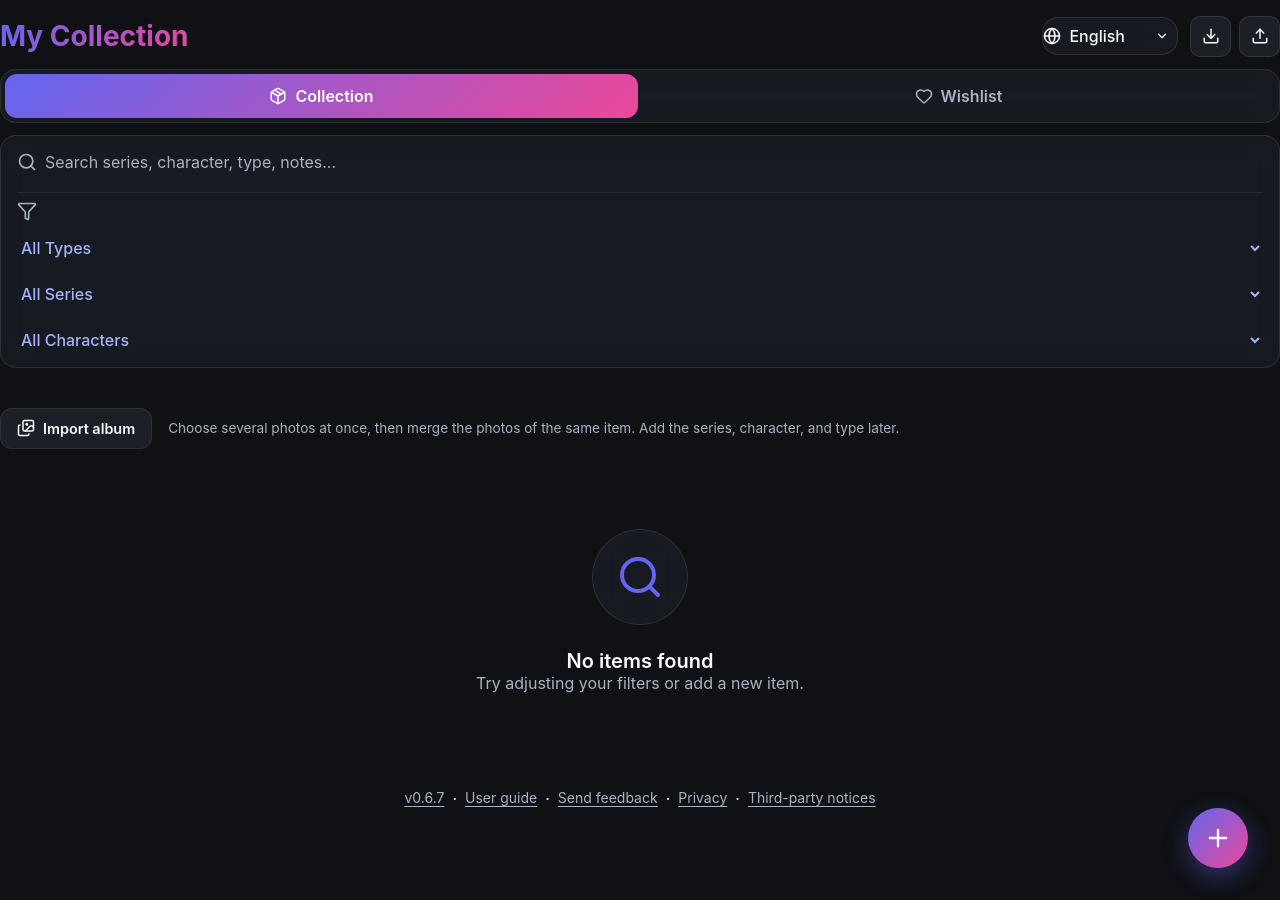
Home smoke flows › on an iPhone › saves the backup through the share sheet, opened by a tap once the file is ready
Click the button named "Export Backup" at x=1211, y=36, box [1190,16,1231,57]
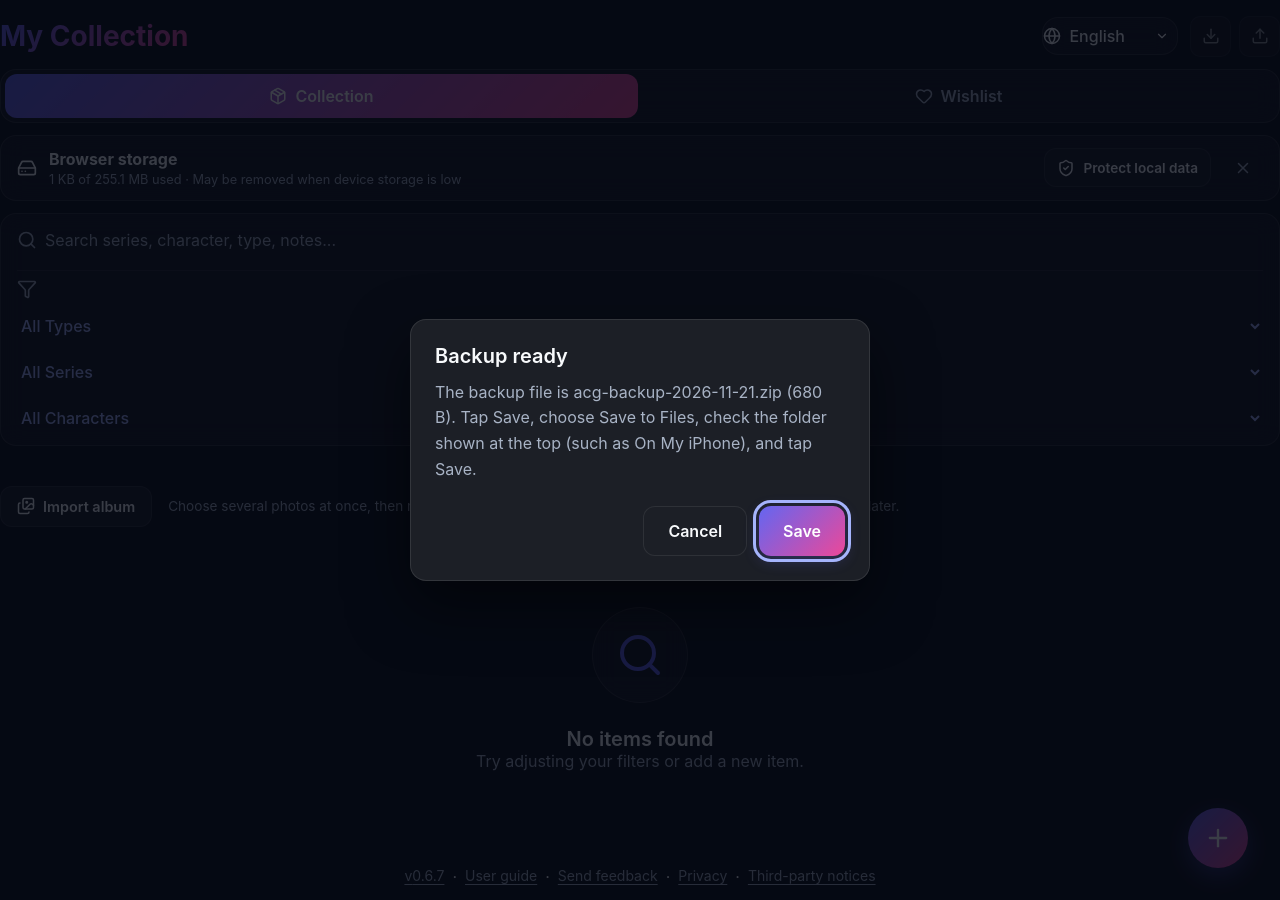
Expected: the dialog "Backup ready" shows "Save to Files", [435,382,827,479]
Click the button "Save" at x=802, y=531, box [759,506,845,556]
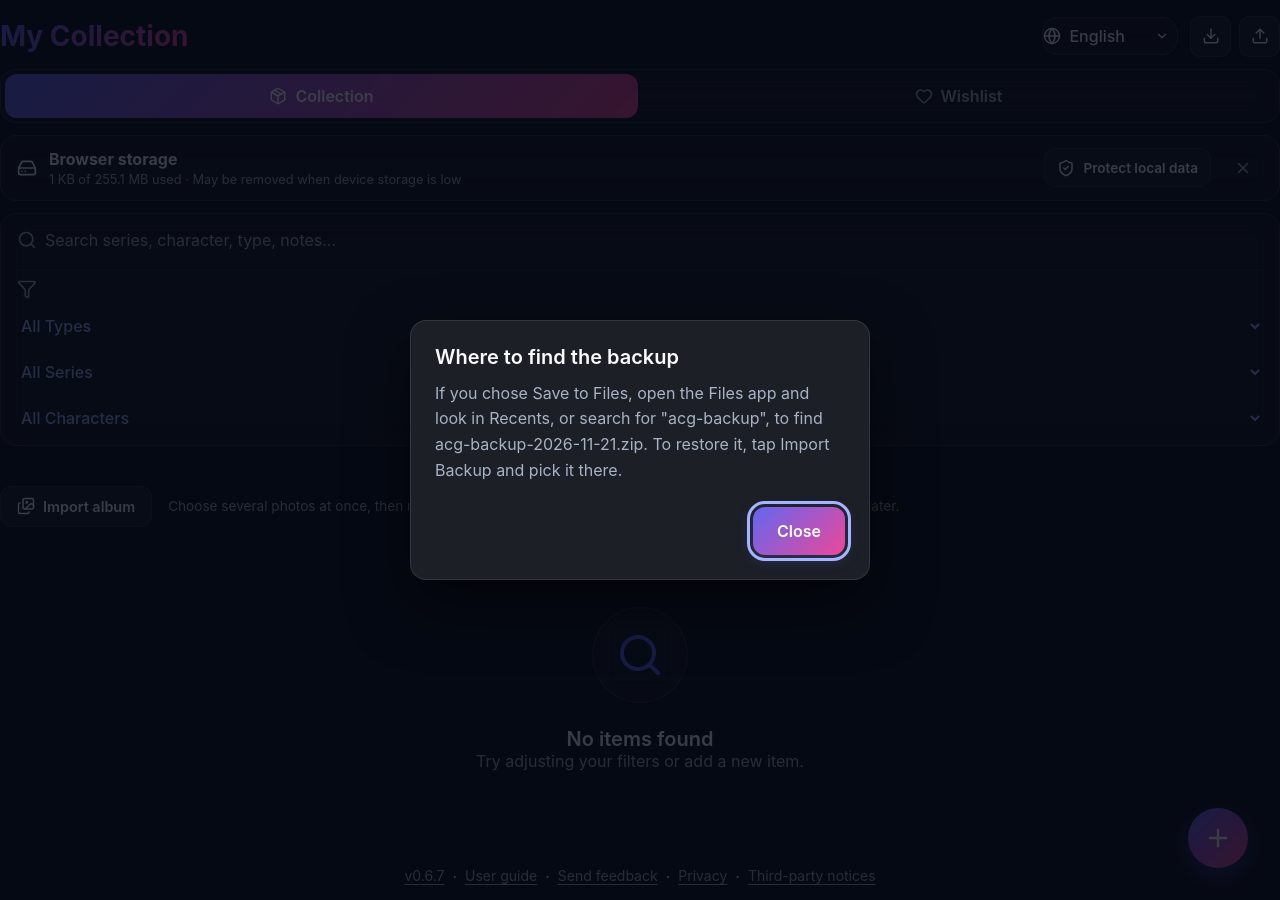
Expected: the dialog "Where to find the backup" shows "Recents", [435,383,829,480]
